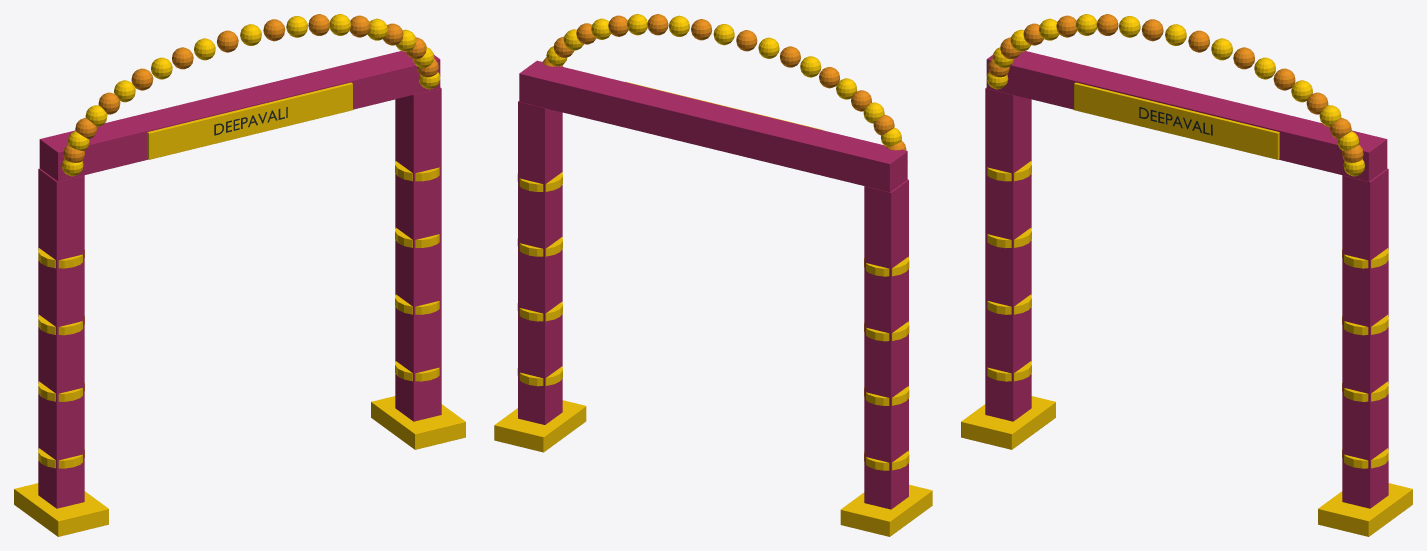
File: deepavali-festive-arch.glb
3 renders of one model, left to right at view 1: azimuth 30°, elevation 25°; view 2: azimuth 150°, elevation 25°; view 3: azimuth 330°, elevation 25°, orthographic. The views are drawn at different scales.
Parts seen in each view (by area): view 1: Column.001, Column, Header, Festival_Panel, Foot, Foot.001; view 2: Header, Column.001, Column, Foot, Foot.001; view 3: Column, Column.001, Header, Festival_Panel, Foot, Foot.001.
Part boxes in pixels (x1,y1,x2,y2): Column.001: (38,168,84,508); Column: (395,87,441,421); Header: (39,51,440,181); Festival_Panel: (147,82,352,159); Foot: (14,483,108,536); Foot.001: (371,396,465,449); Header: (519,60,907,192); Column.001: (864,179,908,509); Column: (518,101,562,424); Foot: (840,484,932,536); Foot.001: (494,400,586,452); Column: (1342,168,1388,508); Column.001: (985,87,1031,421); Header: (986,51,1387,181); Festival_Panel: (1074,82,1279,159); Foot: (961,396,1055,449); Foot.001: (1318,483,1412,536).
Bounding box in the file's own units: 3.2 × 3.4 × 0.6.
